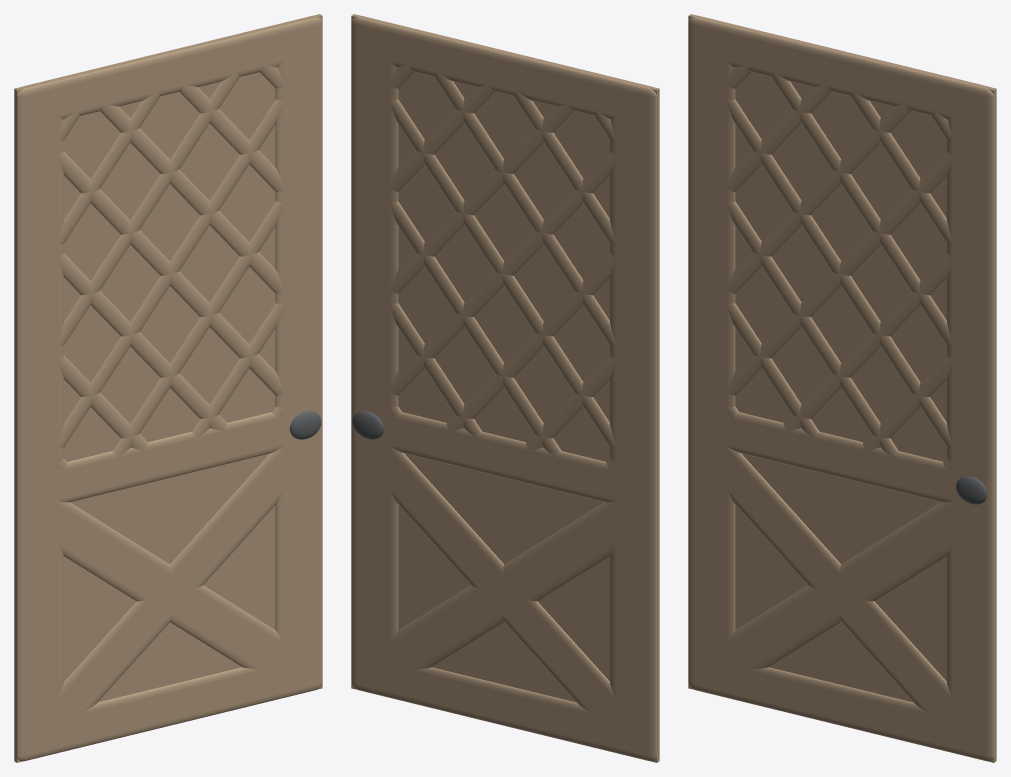
Rendered from door.glb.
3 views of the same model, side by side, from view 1: azimuth 30°, elevation 25°; view 2: azimuth 150°, elevation 25°; view 3: azimuth 330°, elevation 25° (orthographic).
Parts seen in each view (by area): view 1: Mesh_Mesh_head_geo.001_lambert2SG.001; view 2: Mesh_Mesh_head_geo.001_lambert2SG.001; view 3: Mesh_Mesh_head_geo.001_lambert2SG.001.
Boxes of the visible parts, <box> form: Mesh_Mesh_head_geo.001_lambert2SG.001: <box>14,14,322,762</box>; Mesh_Mesh_head_geo.001_lambert2SG.001: <box>351,14,659,762</box>; Mesh_Mesh_head_geo.001_lambert2SG.001: <box>688,14,996,762</box>.
Size of the model in its own units: 0.0138 by 0.029 by 0.001.
